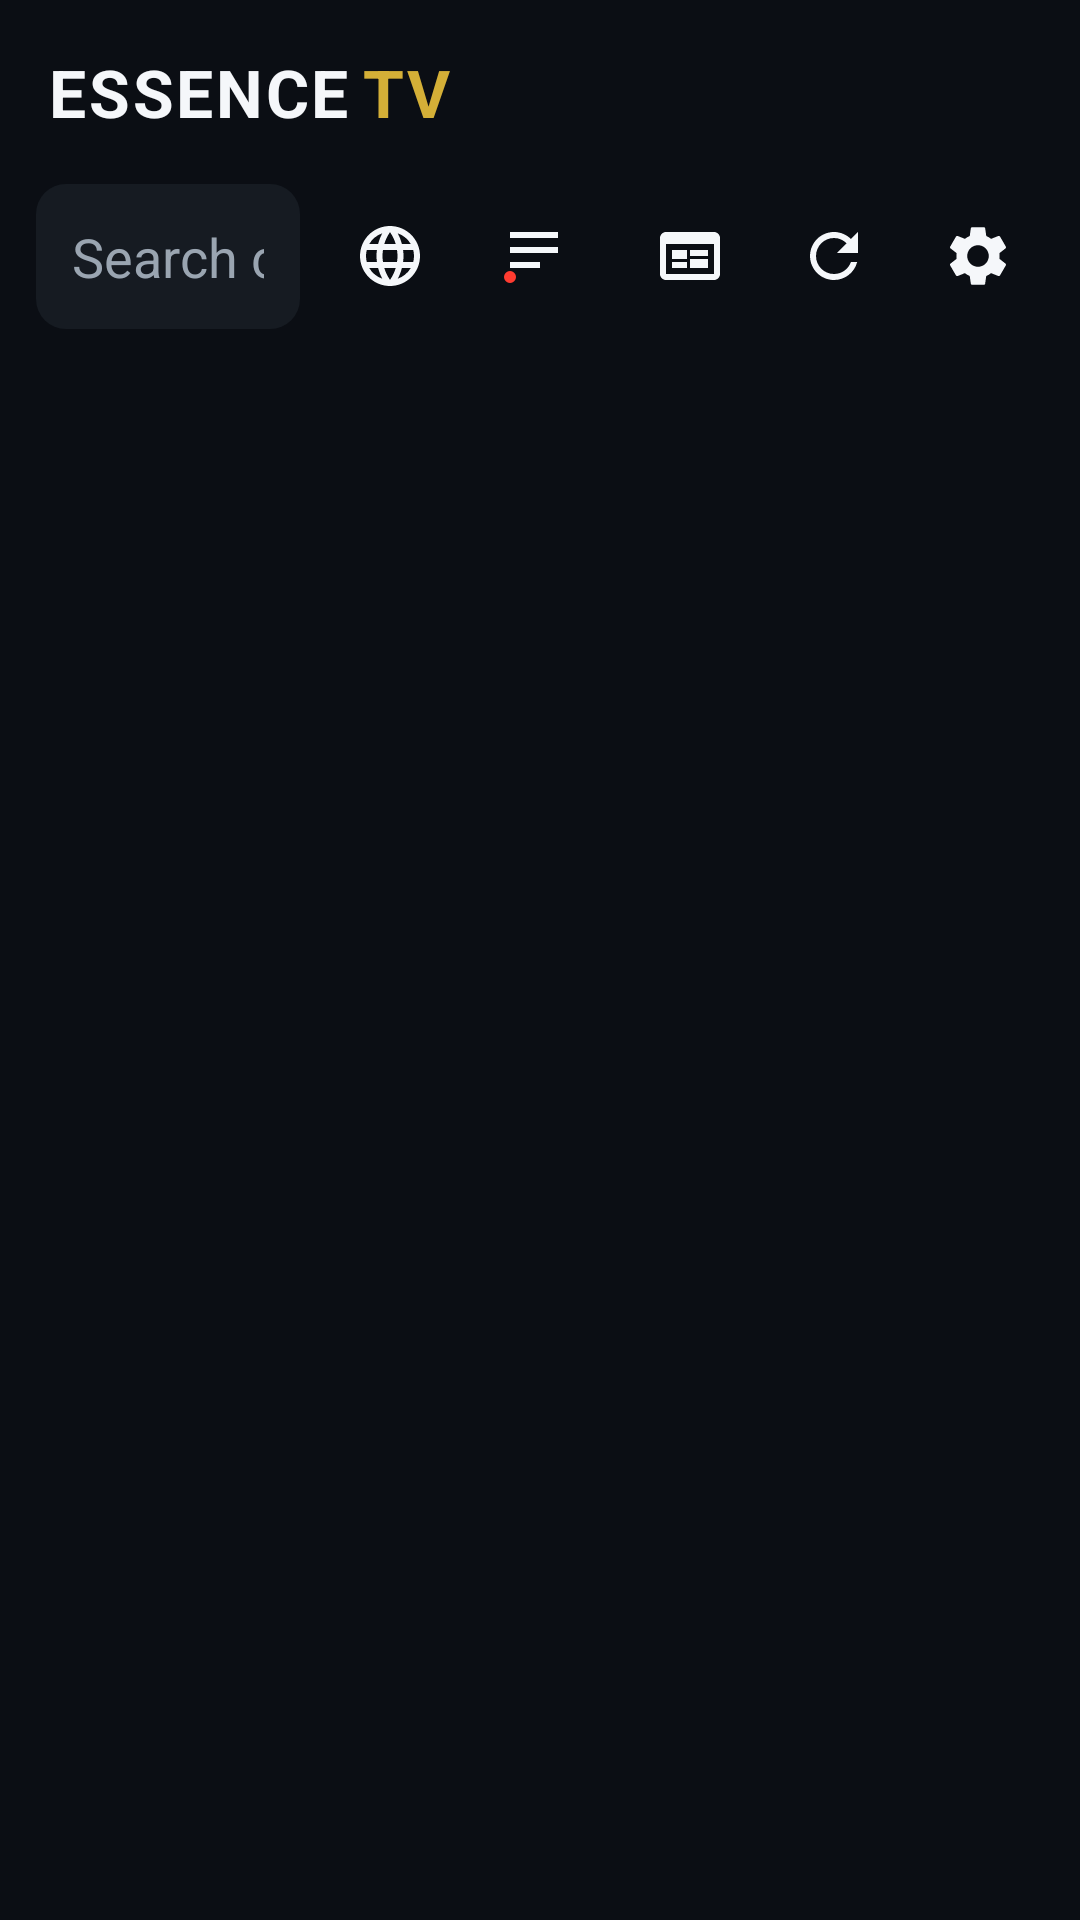

Icons on this 1080px x 1920px Android screen, each with its box as (x1, y1, x2, y2):
Browser: (360, 226, 420, 286)
Reload: (810, 232, 858, 280)
Settings: (950, 227, 1006, 285)
TV Guide: (660, 232, 720, 280)
